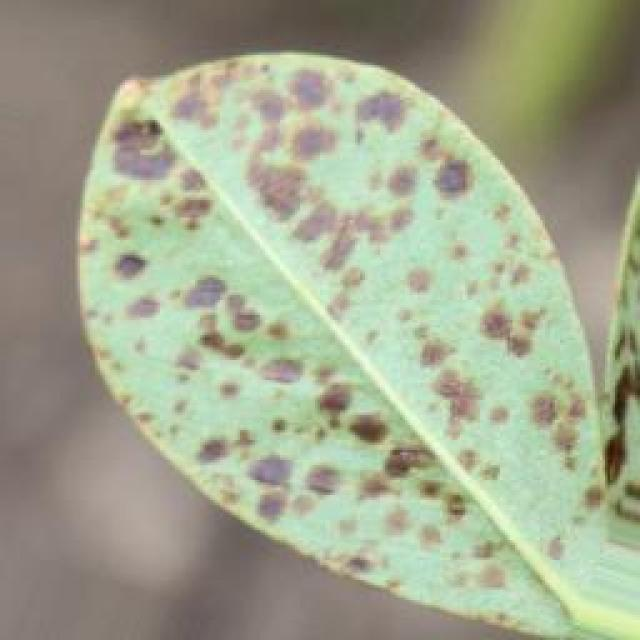Whitefly: (88, 25, 582, 632)
